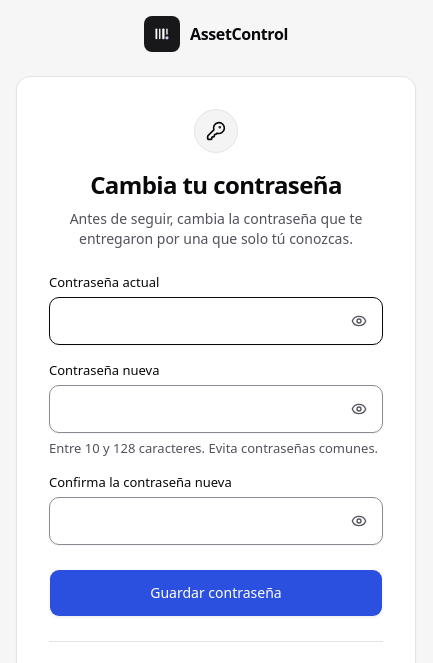
/cambiar-contrasena: el formulario › la política del servidor se muestra en el campo de la nueva
Type "Clave-Inicial-Sintetica-2026" into the password field labelled "Contraseña actual".
click(216, 321); type("Clave-Inicial-Sintetica-2026")  # box [49,297,383,345]
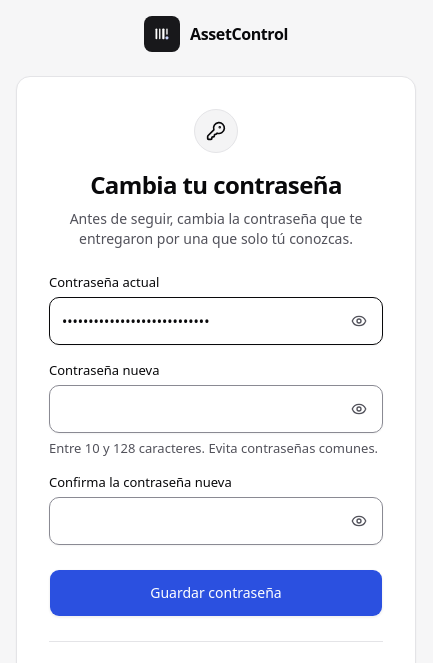
Type "Clave-Nueva-Sintetica-2026" into the password field labelled "Contraseña nueva".
click(216, 409); type("Clave-Nueva-Sintetica-2026")  # box [49,385,383,433]
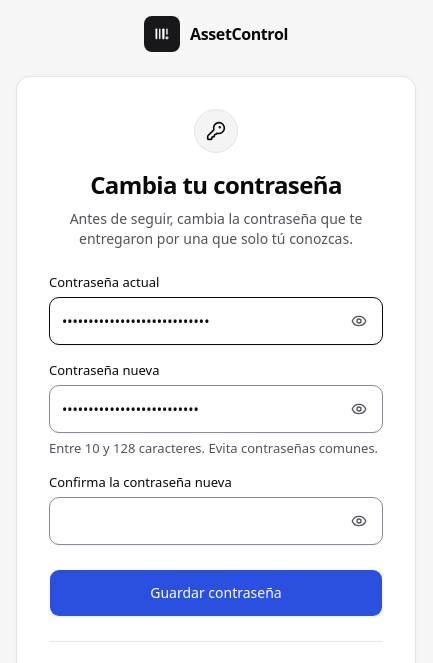
Type "Clave-Nueva-Sintetica-2026" into the password field labelled "Confirma la contraseña nueva".
click(216, 521); type("Clave-Nueva-Sintetica-2026")  # box [49,497,383,545]
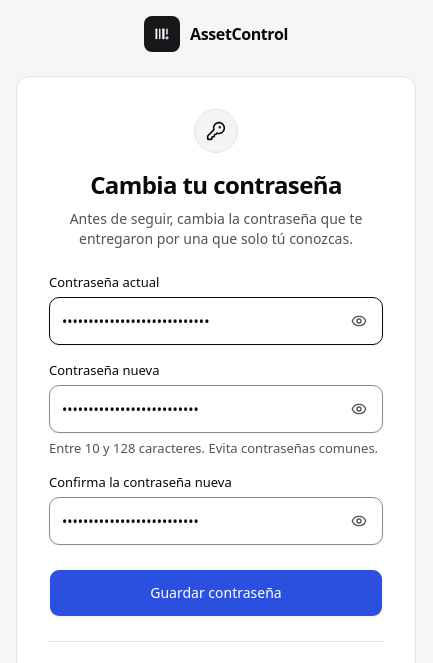
Click the button "Guardar contraseña".
click(216, 593)  # box [49,569,383,617]
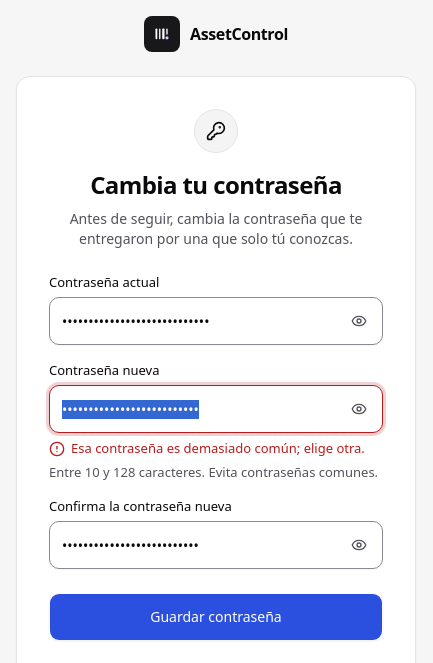
Now the text "Esa contraseña es demasiado común; elige otra." is shown, box [49,439,383,457]
